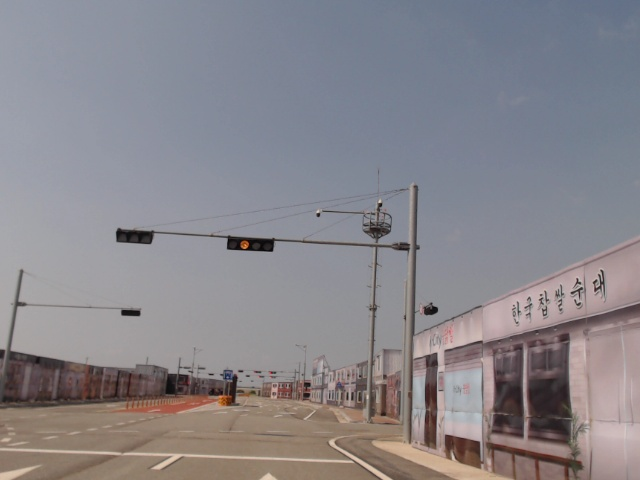orange_4: (227, 235, 274, 254)
